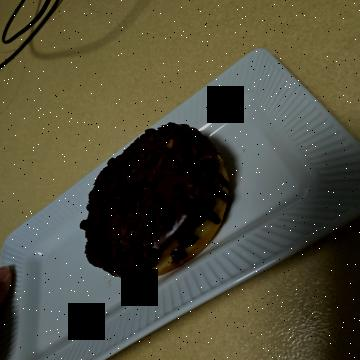doughnut: (103, 126, 286, 295)
